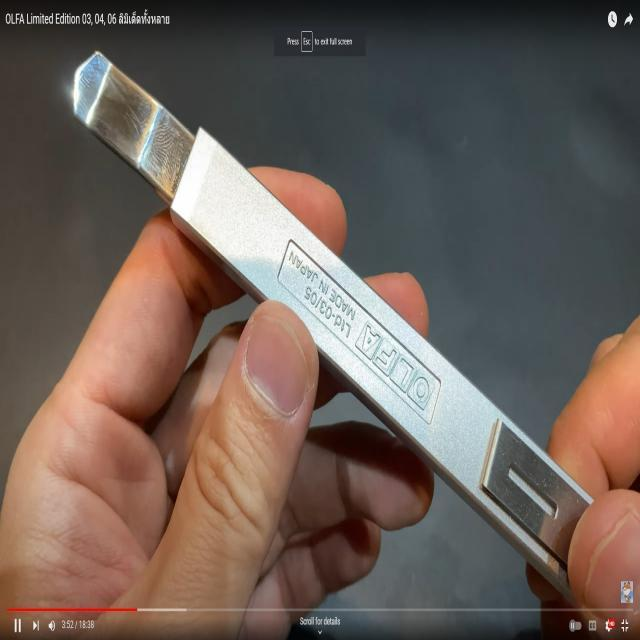cutter: (26, 30, 640, 615)
